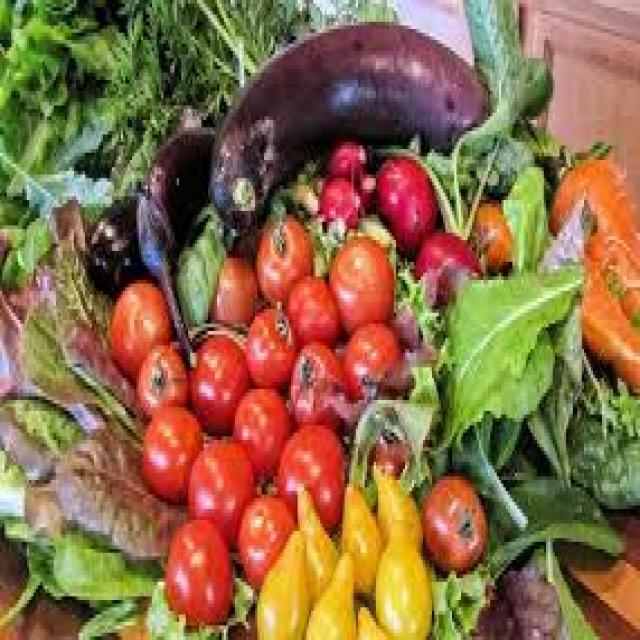organic waste: (208, 18, 486, 233), (105, 0, 307, 204), (0, 0, 123, 291), (436, 269, 580, 429), (448, 51, 555, 236), (134, 124, 215, 349), (13, 298, 144, 436), (546, 142, 638, 334), (548, 138, 638, 331), (552, 218, 638, 393), (5, 512, 161, 604), (486, 473, 622, 567), (44, 444, 174, 542), (349, 360, 436, 498), (385, 134, 479, 236), (447, 407, 526, 524), (278, 418, 344, 542), (161, 513, 231, 622), (139, 571, 255, 636), (183, 440, 253, 545), (172, 196, 226, 331), (526, 538, 597, 636), (461, 0, 526, 105), (284, 334, 358, 426), (468, 564, 562, 636), (420, 469, 486, 571), (105, 280, 175, 375), (566, 414, 638, 506), (186, 327, 248, 433), (327, 233, 394, 331), (374, 520, 429, 636), (479, 568, 564, 636), (253, 528, 306, 636), (85, 189, 139, 295), (141, 400, 197, 502), (374, 153, 434, 247), (0, 386, 90, 448), (230, 382, 288, 476), (293, 480, 338, 600), (499, 160, 546, 273), (338, 473, 380, 596), (255, 218, 311, 306), (412, 226, 479, 298), (371, 454, 423, 546), (282, 269, 338, 353), (492, 331, 550, 411), (237, 494, 289, 582), (306, 546, 356, 636), (428, 568, 492, 636), (392, 244, 434, 346), (340, 320, 396, 396), (242, 298, 291, 382), (577, 367, 638, 429), (206, 247, 255, 324), (136, 346, 188, 414), (396, 265, 436, 353), (354, 425, 407, 491), (76, 589, 143, 636), (268, 156, 318, 214), (466, 193, 510, 258), (510, 116, 564, 160), (349, 207, 394, 258), (316, 174, 360, 226), (488, 408, 524, 466), (0, 571, 36, 629), (0, 448, 25, 528), (322, 138, 365, 178), (358, 593, 394, 636), (354, 171, 374, 200)
